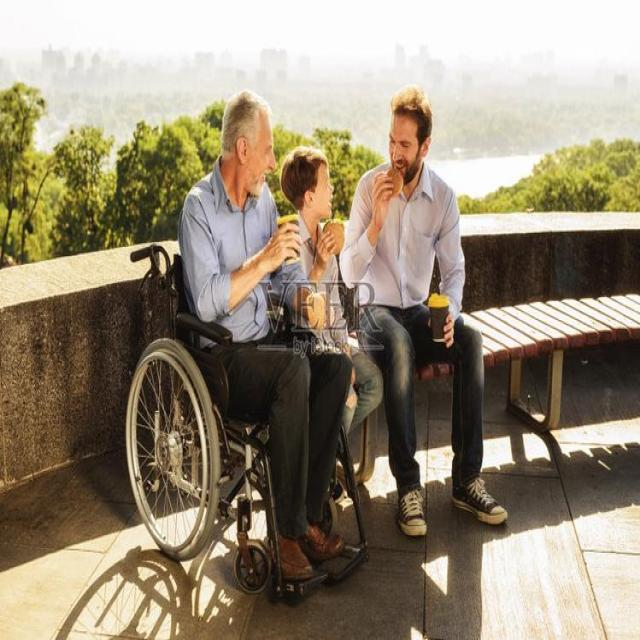wheelchairs: (116, 224, 377, 615)
